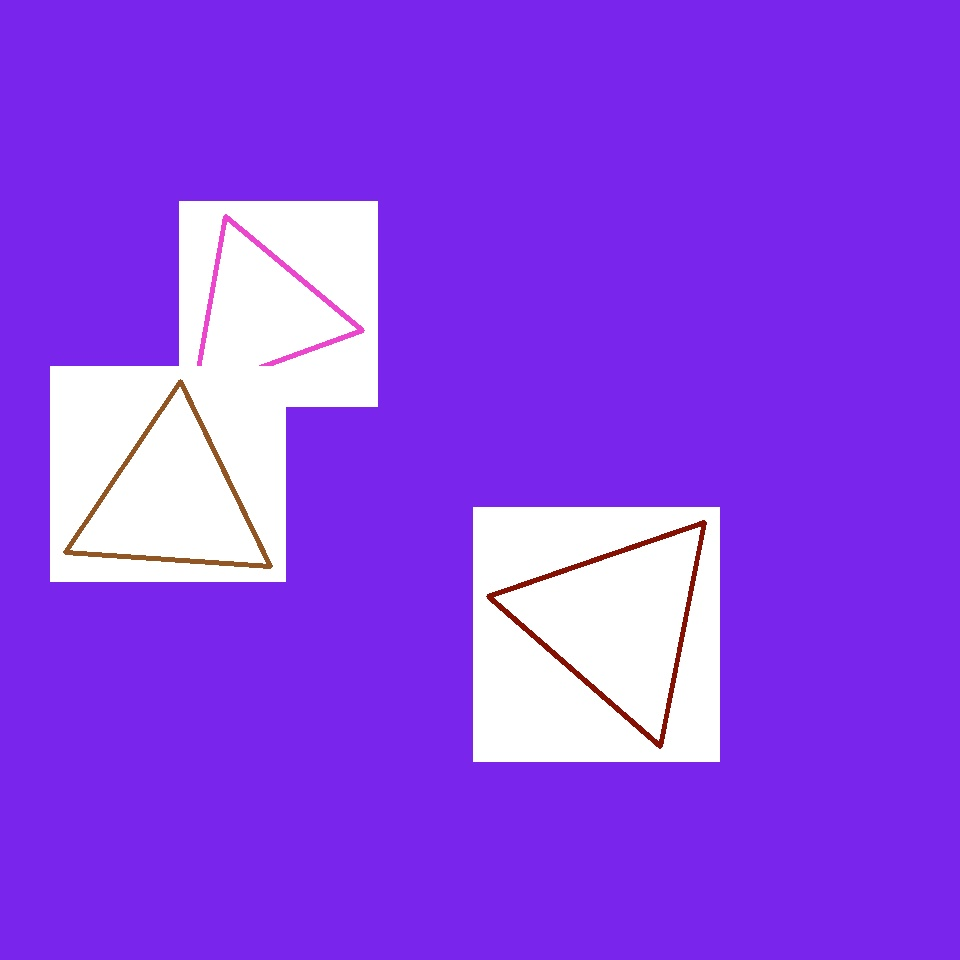circle: (171, 361, 442, 626), (300, 234, 552, 456), (510, 510, 726, 734), (70, 408, 274, 592), (177, 226, 345, 400), (114, 556, 216, 662)
square: (474, 276, 760, 562), (822, 736, 948, 860), (188, 366, 288, 466)
